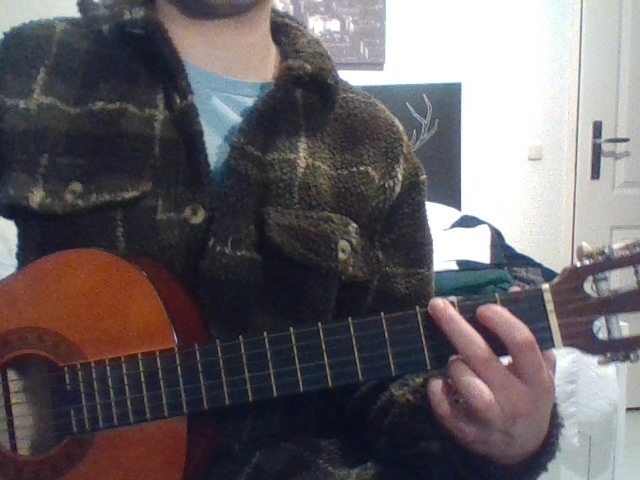G: (401, 277, 585, 476)
